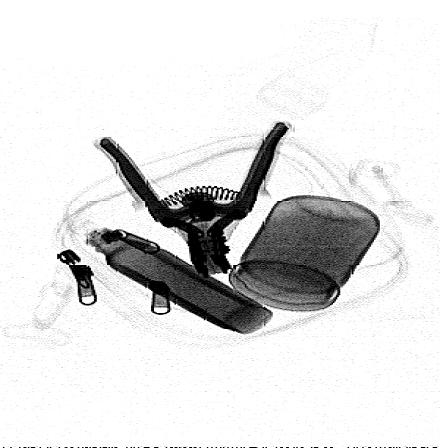Pliers: (98, 123, 292, 278)
